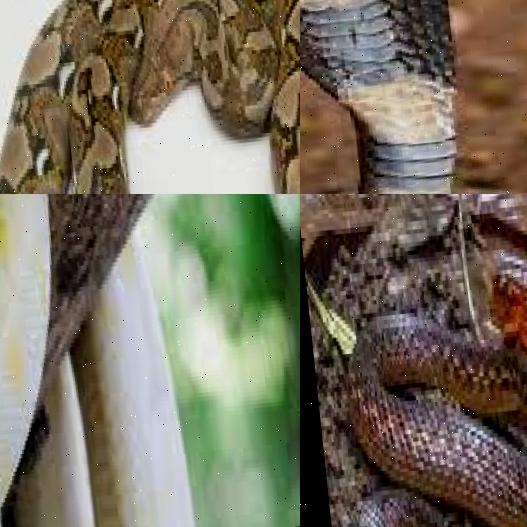snake: (300, 194, 527, 527), (0, 0, 300, 194), (300, 0, 527, 194), (0, 194, 105, 527)
